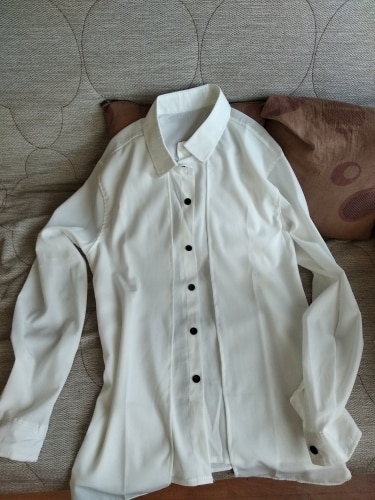shirts: (5, 85, 364, 492)
